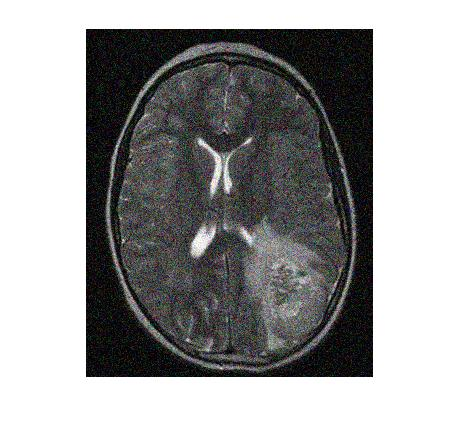Brain_Cancer: (252, 244, 332, 339)
